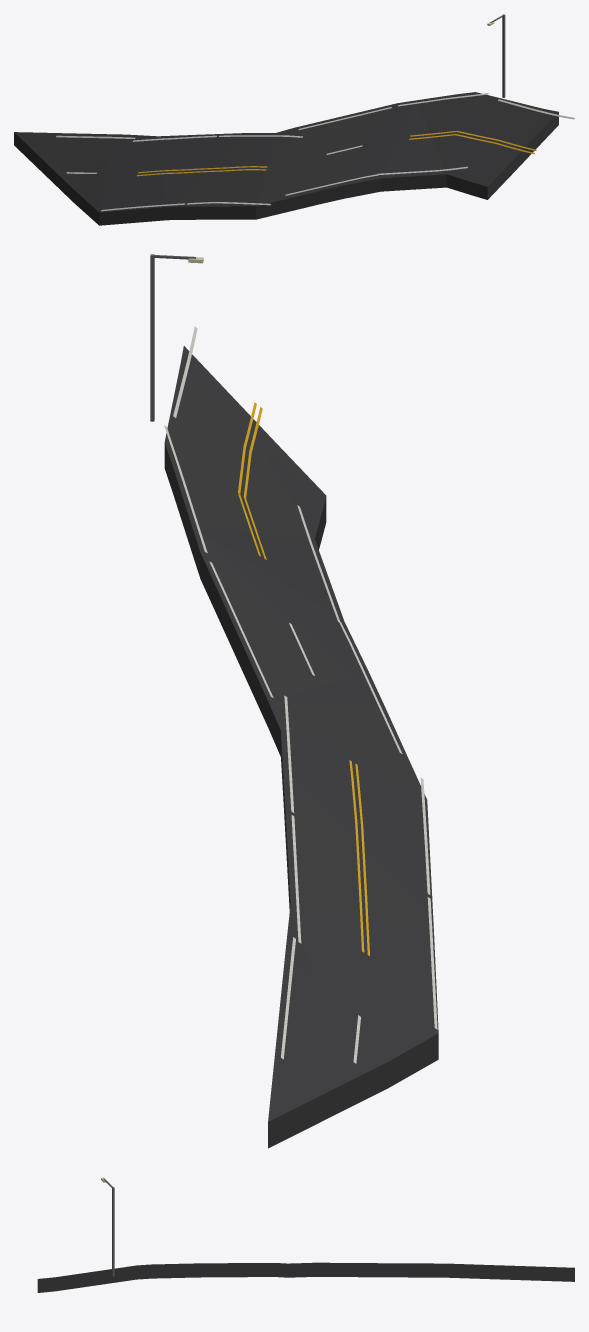
3 renders of one model, top to bottom at view 1: azimuth 30°, elevation 25°; view 2: azimuth 150°, elevation 25°; view 3: azimuth 270°, elevation 25°, orthographic. The views are drawn at different scales.
Size of the model in its own units: 28.34 by 21.73 by 43.12.
